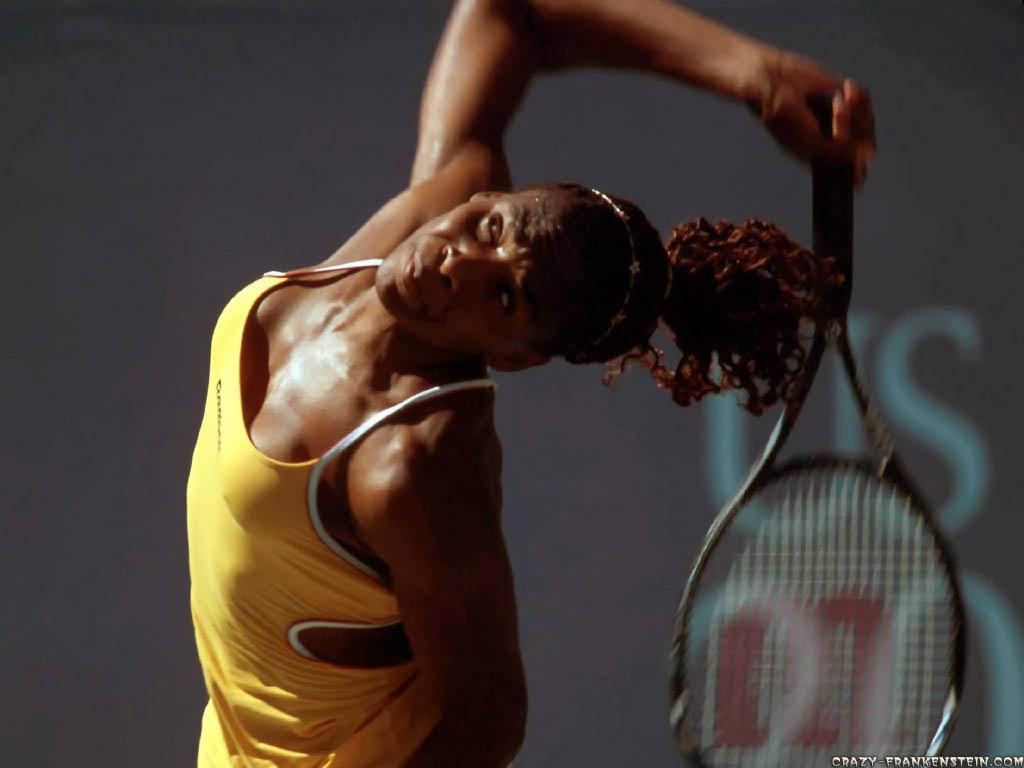face: (376, 188, 608, 350)
